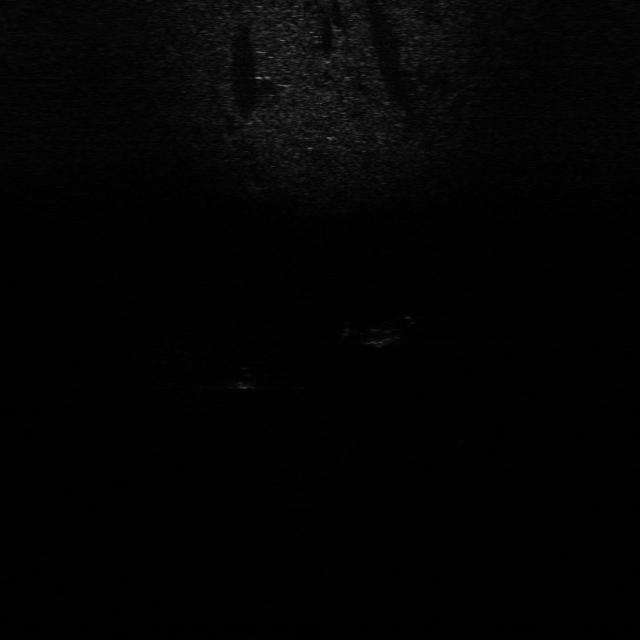ball: (224, 365, 262, 390)
human body: (332, 310, 423, 352)
